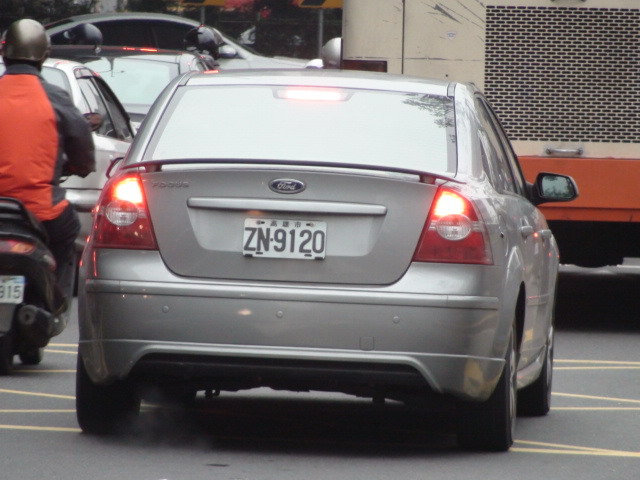plate: (239, 216, 328, 262)
